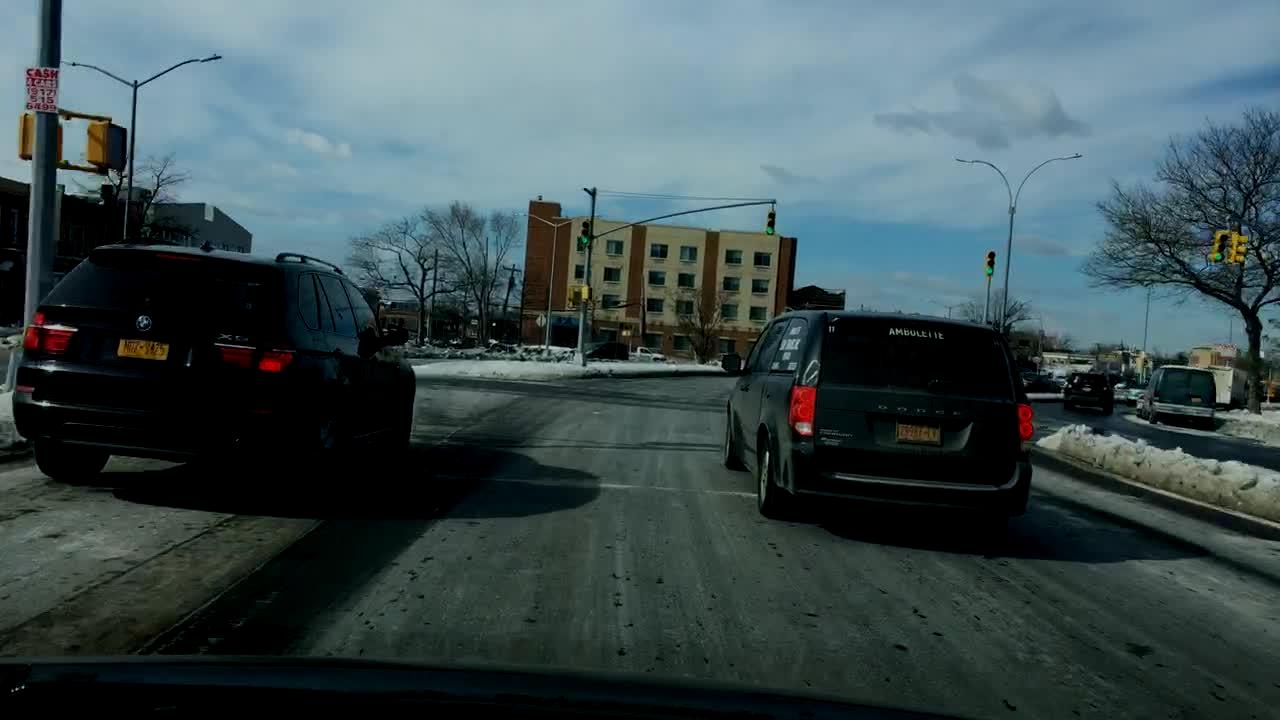bmw: (133, 309, 159, 340)
dodge: (873, 401, 974, 420)
